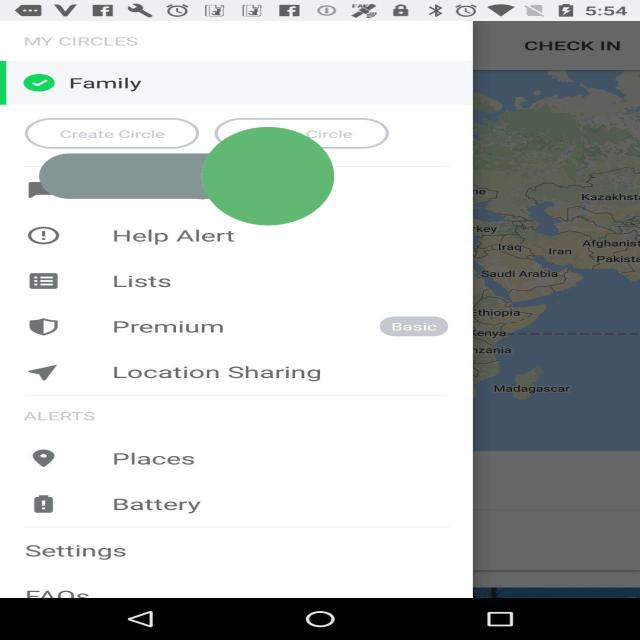social proof: (39, 66, 334, 286)
